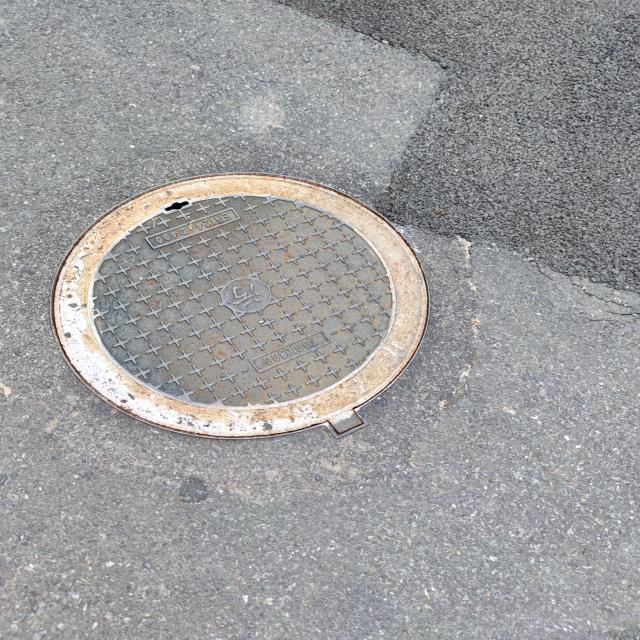Good: (47, 168, 436, 448)
